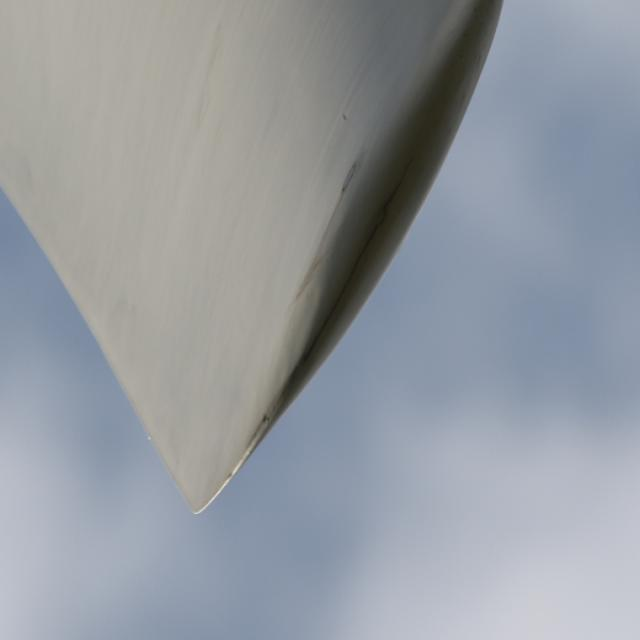Crack: (275, 157, 416, 401)
